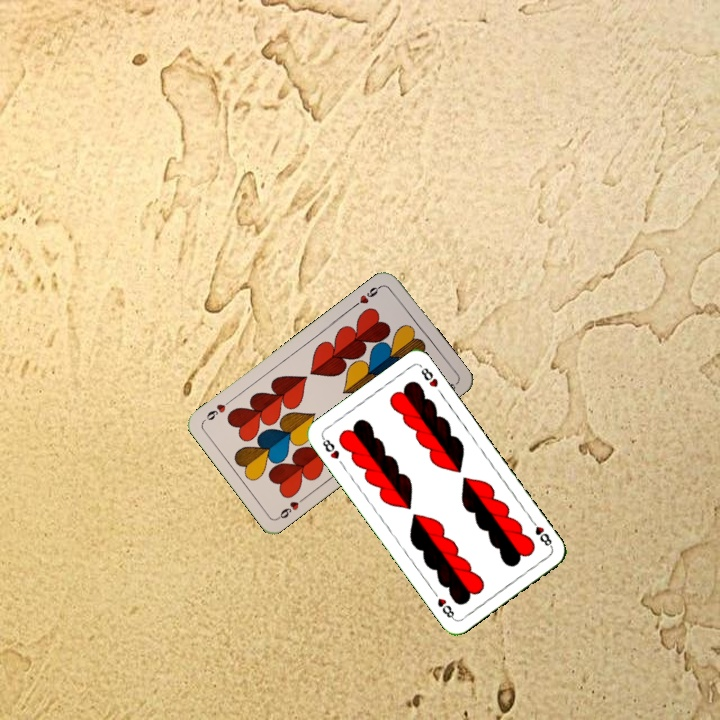H8: (526, 515, 555, 550), (318, 433, 342, 462)
H9: (274, 492, 308, 522), (350, 281, 385, 310)
